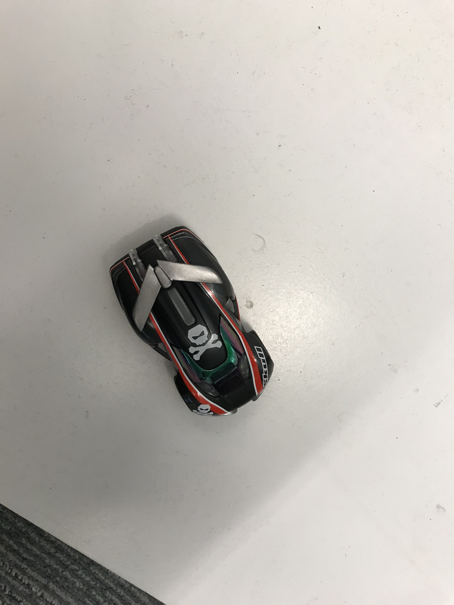Skull: (108, 226, 274, 417)
